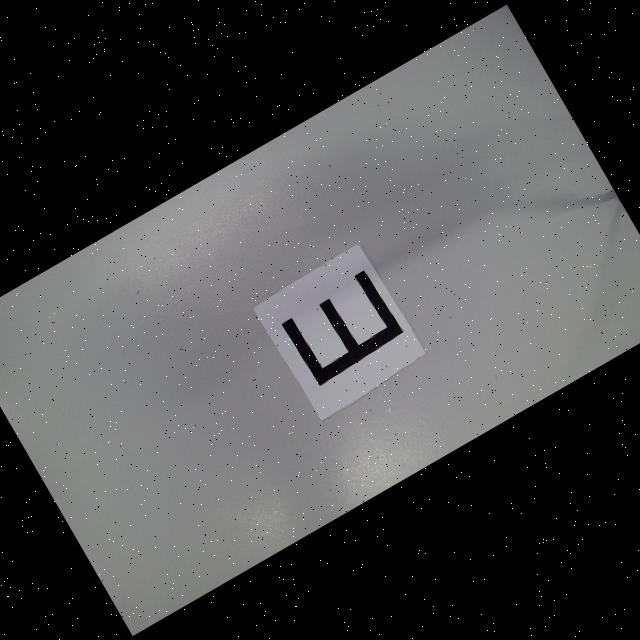FAKE: (279, 268, 406, 387)
